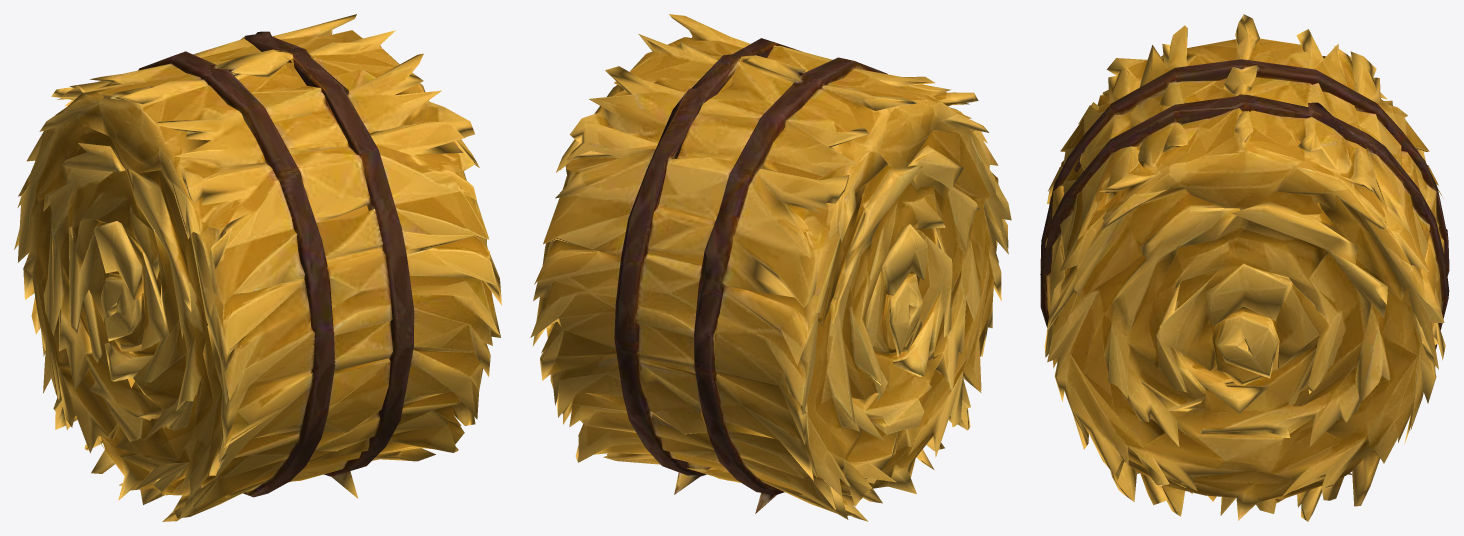
Rendered from hay.glb.
3 renders of one model, left to right at view 1: azimuth 30°, elevation 25°; view 2: azimuth 150°, elevation 25°; view 3: azimuth 270°, elevation 25°, orthographic. The views are drawn at different scales.
Bounding box in the file's own units: 0.7335 × 0.9492 × 0.9029.
1 material, 1 textured.
